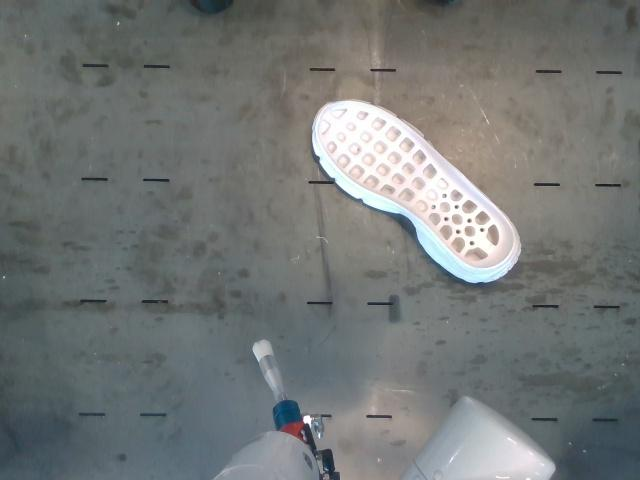shoes: (316, 102, 514, 268)
